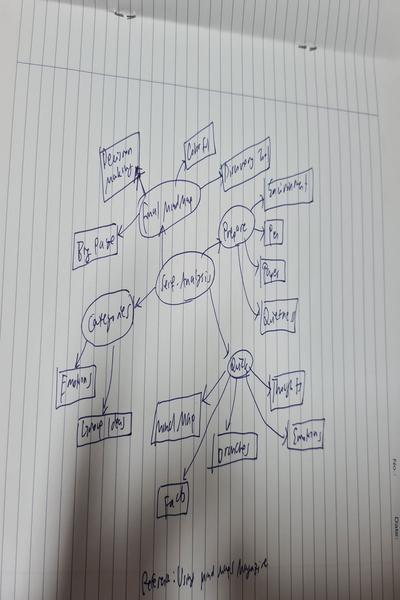arrow: (183, 375, 230, 479), (245, 374, 287, 444), (233, 245, 260, 320), (205, 290, 231, 358), (100, 344, 115, 413), (199, 370, 223, 407), (224, 373, 237, 433), (250, 366, 272, 396), (242, 238, 259, 274), (199, 169, 223, 192), (133, 288, 156, 311), (119, 213, 140, 237), (74, 339, 87, 369), (135, 170, 147, 199), (204, 239, 221, 258), (173, 159, 185, 182), (159, 229, 166, 268), (249, 193, 263, 211), (251, 223, 264, 236)
idea: (93, 131, 138, 202), (216, 138, 272, 191), (150, 393, 200, 441), (71, 223, 118, 271), (173, 121, 217, 169), (264, 168, 313, 209), (75, 412, 132, 447), (53, 366, 97, 408), (210, 432, 258, 469), (269, 371, 307, 410), (259, 298, 299, 335), (284, 419, 326, 452), (155, 481, 190, 516), (259, 258, 286, 285), (263, 219, 286, 247)
topic: (137, 180, 204, 238), (154, 252, 215, 305), (80, 289, 135, 345), (220, 205, 256, 250), (225, 349, 254, 379)
